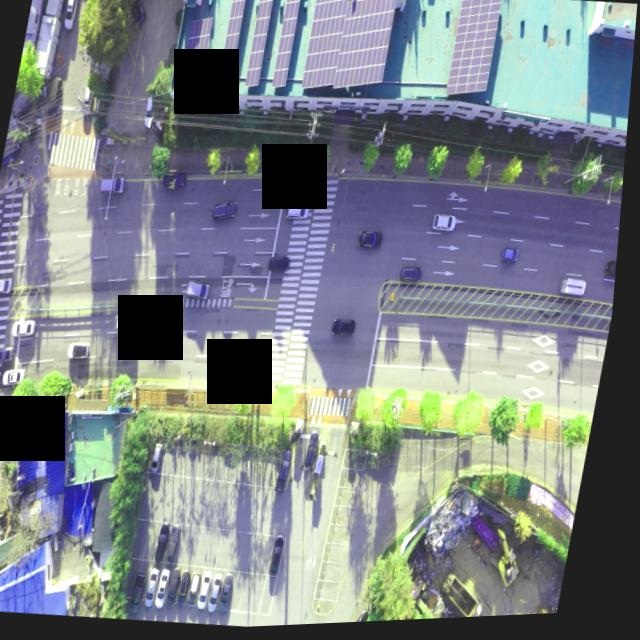car: (45, 76, 66, 118), (152, 568, 170, 613), (285, 453, 301, 495), (164, 570, 180, 610), (161, 526, 177, 564), (174, 526, 190, 564), (102, 177, 130, 198), (311, 435, 326, 473), (141, 98, 158, 131), (128, 0, 148, 28), (229, 576, 244, 613), (139, 578, 154, 615), (434, 216, 460, 237), (279, 540, 293, 578), (207, 575, 221, 613), (335, 319, 360, 340), (216, 203, 242, 223), (287, 204, 314, 223), (218, 576, 232, 612), (361, 234, 386, 254), (188, 283, 214, 302), (185, 571, 199, 606), (403, 270, 428, 289), (81, 88, 96, 119), (198, 574, 211, 608), (18, 319, 41, 338), (72, 344, 95, 363), (271, 258, 295, 276), (176, 570, 189, 603), (65, 0, 79, 30), (7, 369, 29, 388), (0, 348, 20, 364), (159, 445, 170, 474), (505, 251, 523, 268), (609, 265, 622, 282)
medium_truck: (444, 579, 500, 623)
small_truck: (564, 281, 594, 305), (163, 174, 190, 195), (117, 315, 144, 336), (0, 276, 18, 296)
